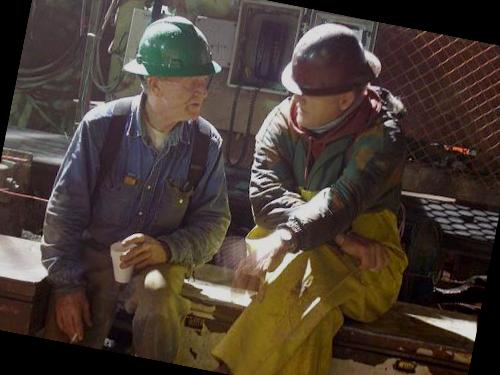person: (16, 0, 267, 368), (205, 10, 449, 375)
